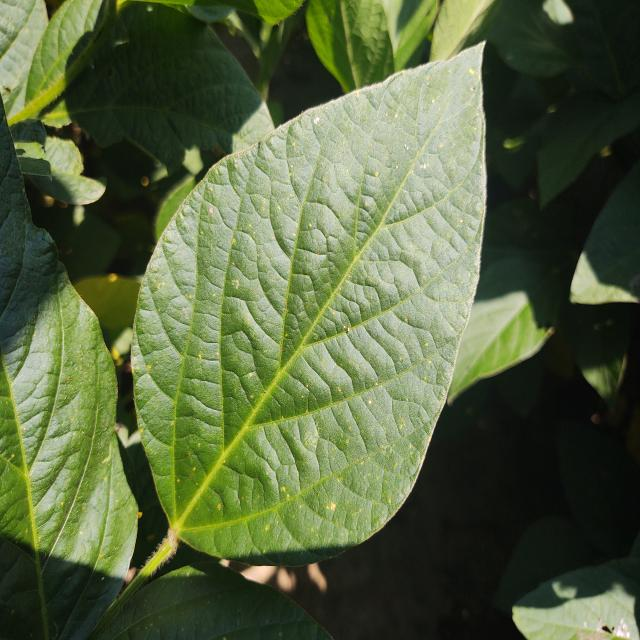Soybean: (0, 0, 640, 640)
downey_mildew: (211, 150, 350, 391), (153, 174, 244, 526), (252, 391, 397, 548), (307, 77, 428, 259), (245, 306, 397, 425), (17, 311, 103, 499), (380, 60, 474, 230), (42, 433, 135, 588), (208, 415, 297, 544), (286, 207, 392, 314), (335, 254, 451, 351), (146, 71, 258, 152), (143, 238, 204, 385), (220, 296, 291, 407), (89, 103, 193, 163), (381, 208, 456, 291), (166, 411, 219, 521), (0, 169, 37, 326)
